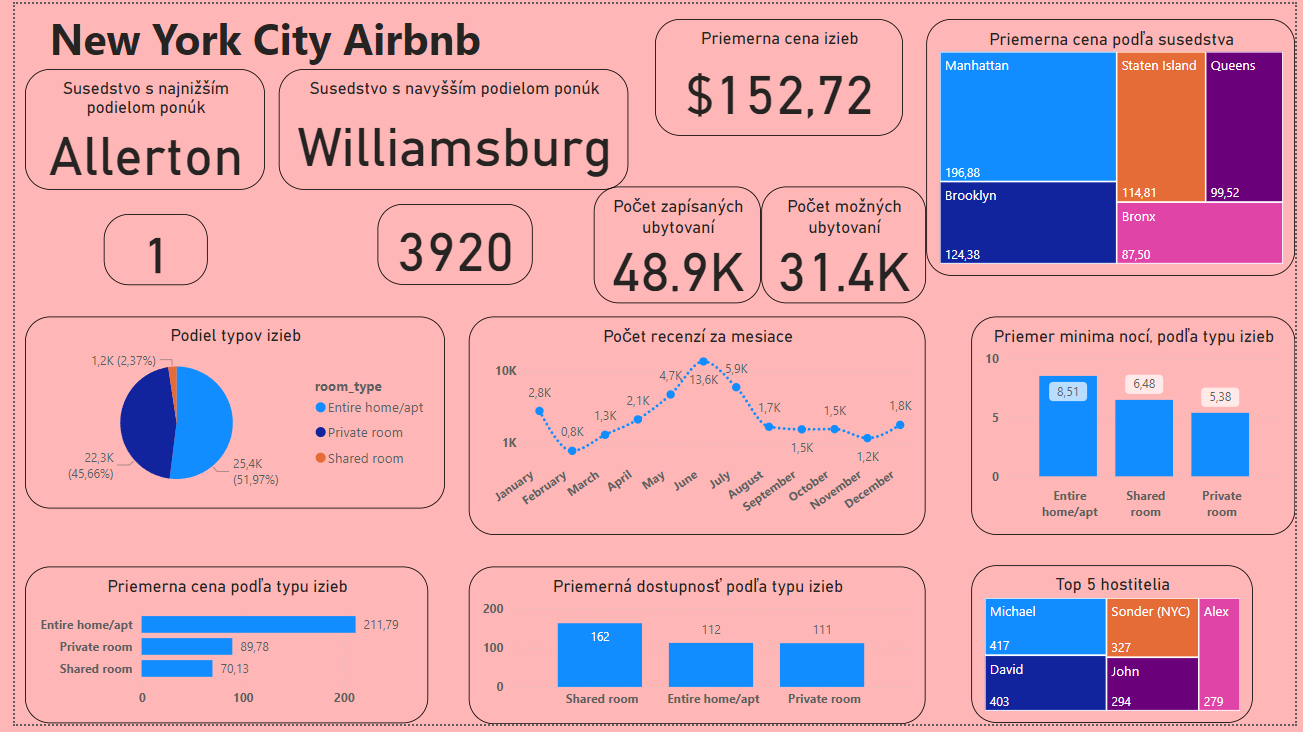

Layout of this report page (visuals, bound fields, positions):
{"tool":"powerbi","page":{"name":"Page 1","canvas":[1280,720],"ordinal":0},"visuals":[{"type":"textbox","box":[9.6,0,480.3,72.7],"z":0},{"type":"card","title":"Počet zapísaných ubytovaní","fields":{"Values":["newFile.listing_count"]},"box":[579.1,182.5,167.4,116.6],"z":1000},{"type":"card","title":"Počet možných ubytovaní","fields":{"Values":["newFile.available_listings_count"]},"box":[746.5,182.5,164.7,116.6],"z":2000},{"type":"card","title":"Priemerna cena izieb","fields":{"Values":["newFile.average_price"]},"box":[640,15.6,247.8,116.7],"z":3000},{"type":"pieChart","title":"Podiel typov izieb","fields":{"Category":["newFile.room_type"],"Y":["newFile.listing_count"]},"box":[9.6,312.9,419.9,192.1],"z":4000},{"type":"lineChart","title":"Počet recenzí za mesiace","fields":{"Category":["newFile.last_review.Variation.Date Hierarchy.Month"],"Y":["newFile.last_review"]},"box":[454.2,312.9,456.9,218.2],"z":5000},{"type":"barChart","title":"Priemerna cena podľa typu izieb","fields":{"Category":["newFile.room_type"],"Y":["newFile.price"]},"box":[9.6,562.6,403.4,156.4],"z":6000},{"type":"columnChart","title":"Priemerná dostupnosť podľa typu izieb","fields":{"Category":["newFile.room_type"],"Y":["newFile.availability_365"]},"box":[454.2,562.6,456.9,157.8],"z":7000},{"type":"lineStackedColumnComboChart","title":"Priemer minima nocí, podľa typu izieb","fields":{"Category":["newFile.room_type"],"Y":["newFile.minimum_nights"]},"box":[956.4,312.9,323.8,218.2],"z":8000},{"type":"treemap","title":"Top 5 hostitelia","fields":{"Group":["newFile.host_name"],"Values":["newFile.id"]},"box":[956.4,561.2,281.3,157.8],"z":9000},{"type":"treemap","title":"Priemerna cena podľa susedstva","fields":{"Group":["newFile.neighbourhood_group"],"Values":["newFile.price"]},"box":[911,15,369,257],"z":10000},{"type":"card","fields":{"Values":["newFile.HighestListingCount"]},"box":[362.3,200.3,155.1,81],"z":11000},{"type":"card","fields":{"Values":["newFile.LowestListingCount"]},"box":[89.2,209.9,104.3,71.4],"z":12000},{"type":"card","title":"Susedstvo s najnižším podielom ponúk","fields":{"Values":["newFile.LowestNeighbourhoodName"]},"box":[9.6,64.5,240.1,120.8],"z":13000},{"type":"card","title":"Susedstvo s navyšším podielom ponúk","fields":{"Values":["newFile.HighestNeighbourhoodName"]},"box":[263.5,64.5,349.9,120.8],"z":14000}]}

Visuals, with their boxes in screenshot pixels (x1, y1, x2, y2), scaled from the page's 1280x720 canvas onto the 1303x732 screenshot:
textbox: [x1=10, y1=0, x2=499, y2=74]
"Počet zapísaných ubytovaní" card: [x1=590, y1=186, x2=760, y2=304]
"Počet možných ubytovaní" card: [x1=760, y1=186, x2=928, y2=304]
"Priemerna cena izieb" card: [x1=652, y1=16, x2=904, y2=135]
"Podiel typov izieb" pieChart: [x1=10, y1=318, x2=437, y2=513]
"Počet recenzí za mesiace" lineChart: [x1=462, y1=318, x2=927, y2=540]
"Priemerna cena podľa typu izieb" barChart: [x1=10, y1=572, x2=420, y2=731]
"Priemerná dostupnosť podľa typu izieb" columnChart: [x1=462, y1=572, x2=927, y2=731]
"Priemer minima nocí, podľa typu izieb" lineStackedColumnComboChart: [x1=974, y1=318, x2=1302, y2=540]
"Top 5 hostitelia" treemap: [x1=974, y1=571, x2=1260, y2=731]
"Priemerna cena podľa susedstva" treemap: [x1=927, y1=15, x2=1302, y2=277]
card - newFile.HighestListingCount: [x1=369, y1=204, x2=527, y2=286]
card - newFile.LowestListingCount: [x1=91, y1=213, x2=197, y2=286]
"Susedstvo s najnižším podielom ponúk" card: [x1=10, y1=66, x2=254, y2=188]
"Susedstvo s navyšším podielom ponúk" card: [x1=268, y1=66, x2=624, y2=188]
